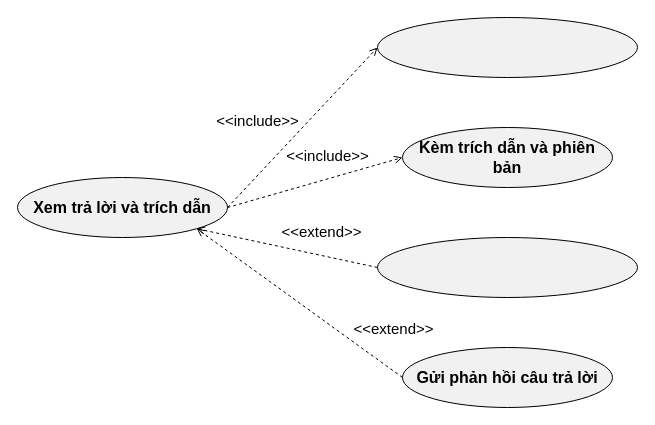
Image size: 655x425. Some labels were removed from this diagram. Each missing label, with the centre of its shape:
Mở toàn văn điều khoản tại nguồn gốc: pixel 507 267
Sinh câu trả lời từ kiểm tra bằng chứng: pixel 507 47
